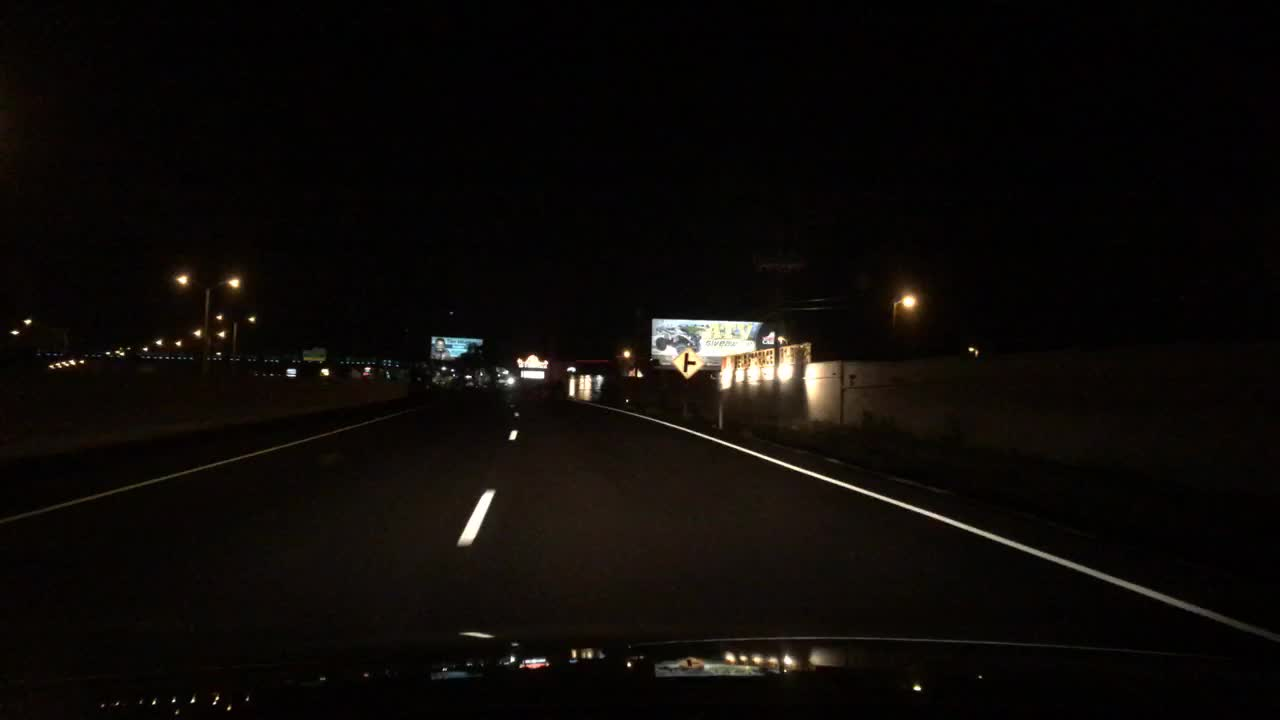car: (283, 357, 353, 380), (494, 372, 521, 393), (360, 363, 391, 378)
traffic sign: (671, 343, 705, 379)
